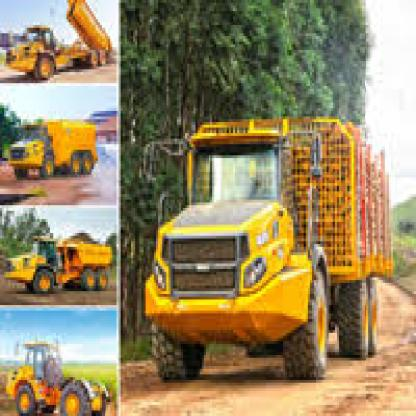dump_truck: (144, 105, 382, 394)
